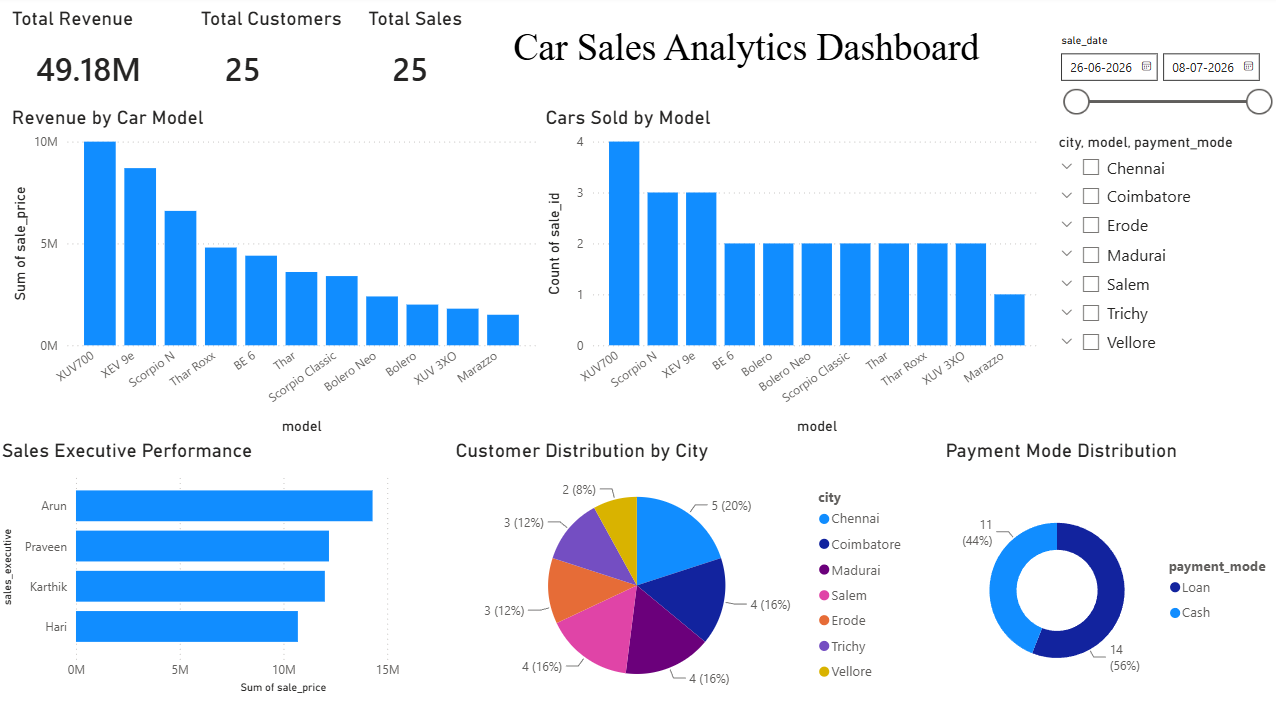

What the dashboard file says about the page in this screenshot:
{"tool":"powerbi","page":{"name":"Mahindra Showroom Sales Analytics Dashboard","canvas":[1280,720],"ordinal":0},"visuals":[{"type":"cardVisual","title":"Total Revenue","fields":{"Data":["Sum(car_showroom sales.sale_price)"]},"box":[10,11.2,171.7,98.3],"z":0},{"type":"cardVisual","title":"Total Customers","fields":{"Data":["Count(car_showroom customers.customer_id)"]},"box":[197.8,11.2,156.7,98.3],"z":1000},{"type":"cardVisual","title":"Total Sales","fields":{"Data":["Count(car_showroom sales.sale_id)"]},"box":[364.5,11.2,118.2,98.3],"z":2000},{"type":"clusteredColumnChart","title":"Revenue by Car Model","fields":{"Category":["car_showroom cars.model"],"Y":["Sum(car_showroom sales.sale_price)"]},"box":[10,109.5,531.2,332.1],"z":3000},{"type":"clusteredColumnChart","title":"Cars Sold by Model","fields":{"Category":["car_showroom cars.model"],"Y":["Count(car_showroom sales.sale_id)"]},"box":[541.1,109.5,502.6,332.1],"z":4000},{"type":"donutChart","title":"Payment Mode Distribution","fields":{"Category":["car_showroom sales.payment_mode"],"Y":["CountNonNull(car_showroom sales.sale_id)"]},"box":[939.2,441.6,340.8,278.6],"z":5000},{"type":"clusteredBarChart","title":"Sales Executive Performance","fields":{"Category":["car_showroom sales.sales_executive"],"Y":["Sum(car_showroom sales.sale_price)"]},"box":[0,441.6,508.8,257.5],"z":5001},{"type":"pieChart","title":"Customer Distribution by City","fields":{"Category":["car_showroom customers.city"],"Y":["Count(car_showroom customers.customer_id)"]},"box":[451.6,441.6,462.8,268.7],"z":5002},{"type":"slicer","fields":{"Values":["car_showroom customers.city","car_showroom cars.model","car_showroom sales.payment_mode"]},"box":[1043.7,131.9,236.4,257.5],"z":5003},{"type":"textbox","box":[508.8,24.9,480.2,70.9],"z":5004},{"type":"slicer","fields":{"Values":["car_showroom sales.sale_date"]},"box":[1046.2,32.3,231.4,99.5],"z":5005}]}

Visuals, with their boxes in screenshot pixels (x1, y1, x2, y2), scaled from the page's 1280x720 canvas onto the 1276x712 screenshot:
"Total Revenue" cardVisual: [x1=10, y1=11, x2=181, y2=108]
"Total Customers" cardVisual: [x1=197, y1=11, x2=353, y2=108]
"Total Sales" cardVisual: [x1=363, y1=11, x2=481, y2=108]
"Revenue by Car Model" clusteredColumnChart: [x1=10, y1=108, x2=540, y2=437]
"Cars Sold by Model" clusteredColumnChart: [x1=539, y1=108, x2=1040, y2=437]
"Payment Mode Distribution" donutChart: [x1=936, y1=437, x2=1275, y2=711]
"Sales Executive Performance" clusteredBarChart: [x1=0, y1=437, x2=507, y2=691]
"Customer Distribution by City" pieChart: [x1=450, y1=437, x2=912, y2=702]
slicer - car_showroom customers.city x car_showroom cars.model: [x1=1040, y1=130, x2=1275, y2=385]
textbox: [x1=507, y1=25, x2=986, y2=95]
slicer - car_showroom sales.sale_date: [x1=1043, y1=32, x2=1274, y2=130]
